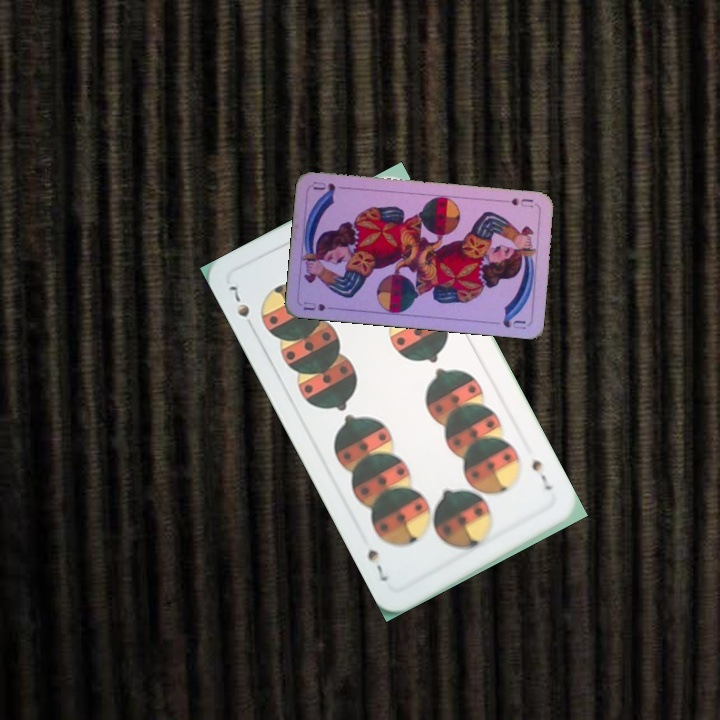S7: (224, 281, 253, 320), (527, 455, 556, 493)
SU: (299, 297, 340, 314), (507, 194, 536, 210)
